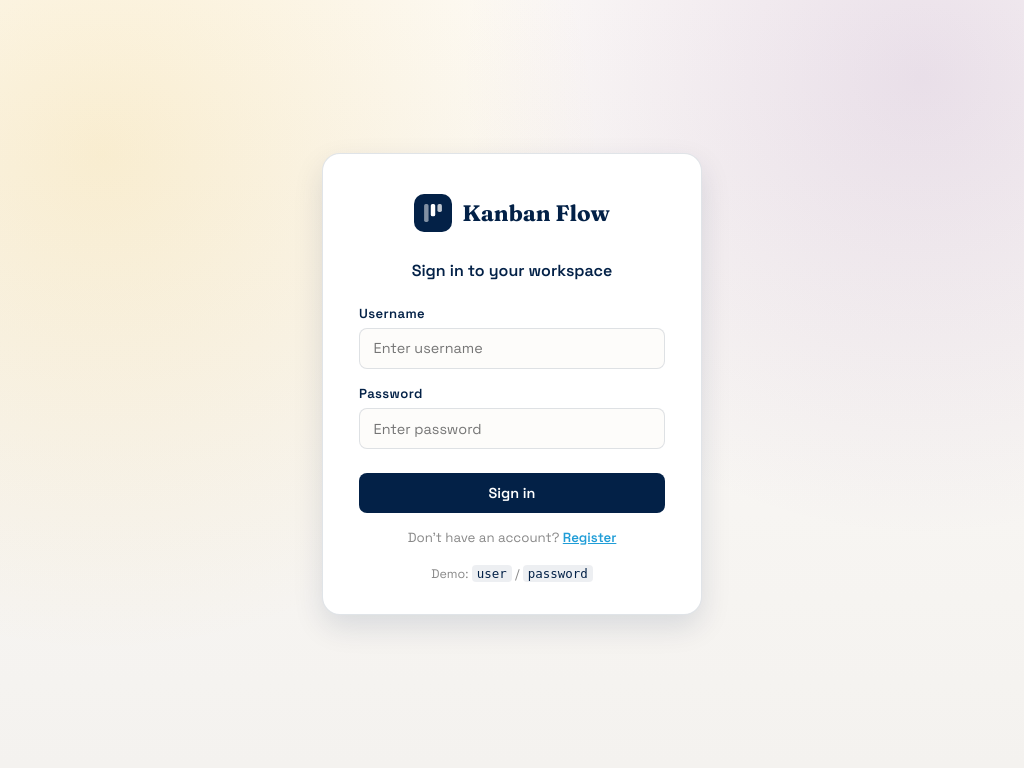
Test case: Login component — login mode › shows error on invalid credentials
This screenshot has width=1024, height=768.
Type "alice" into the field labelled "Username" at (512, 348), box [359, 328, 665, 369]
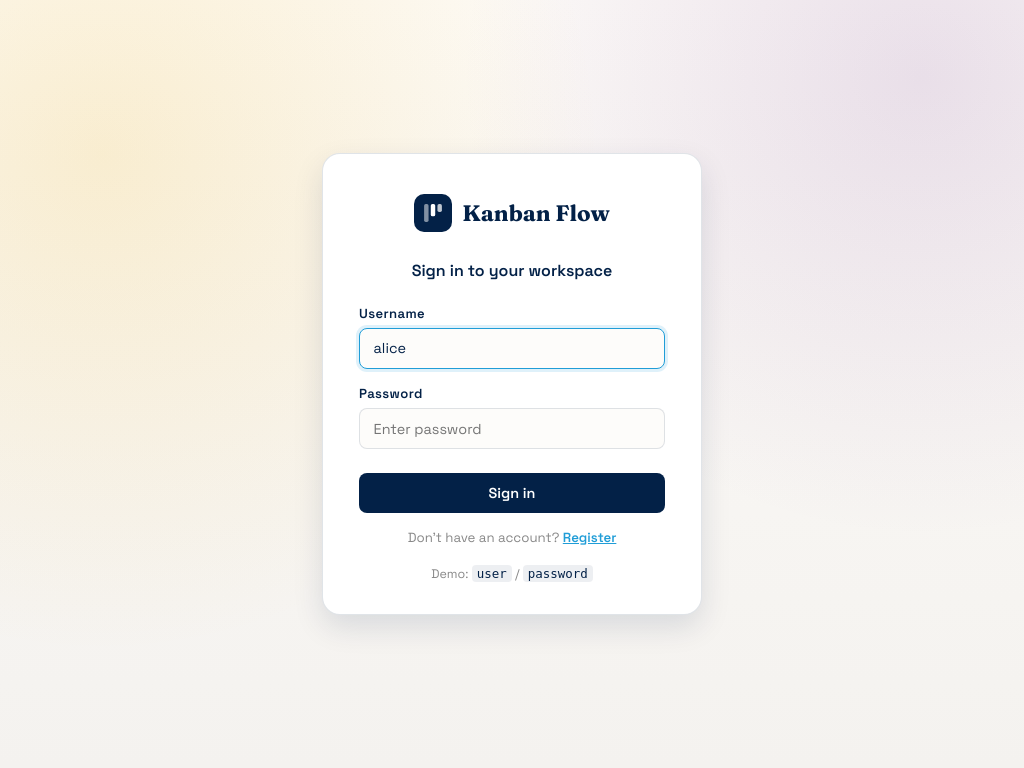
Type "wrong" into the password field labelled "Password" at (512, 429), box [359, 408, 665, 449]
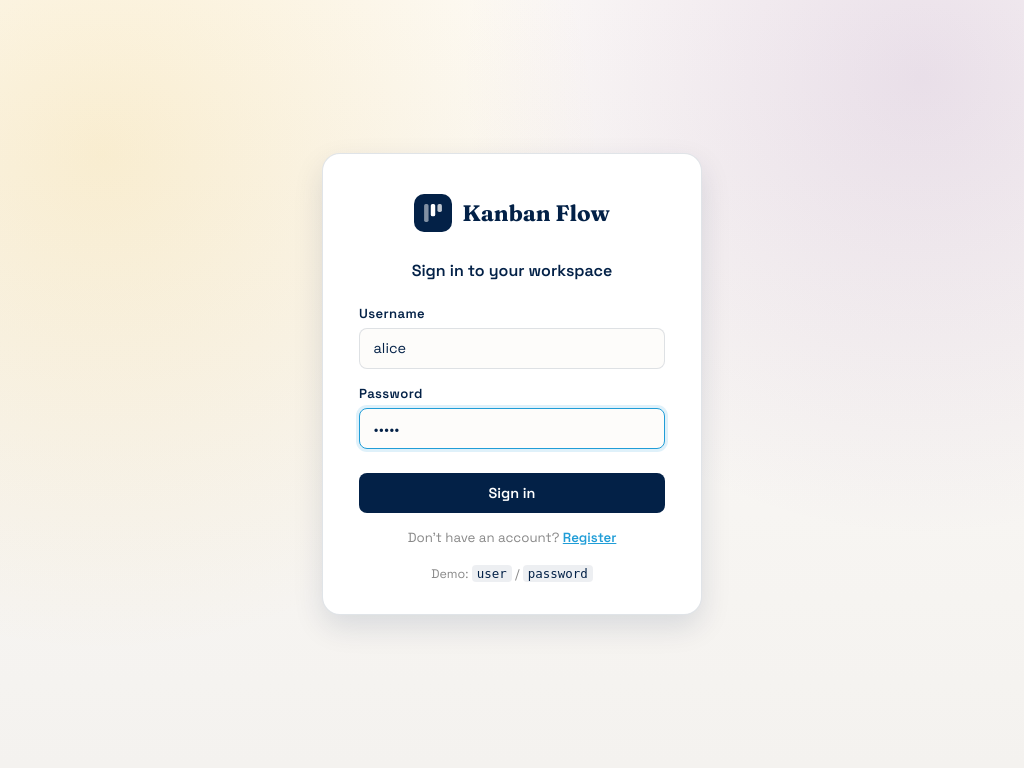
Click the button "Sign in" at (512, 493), box [359, 473, 665, 513]
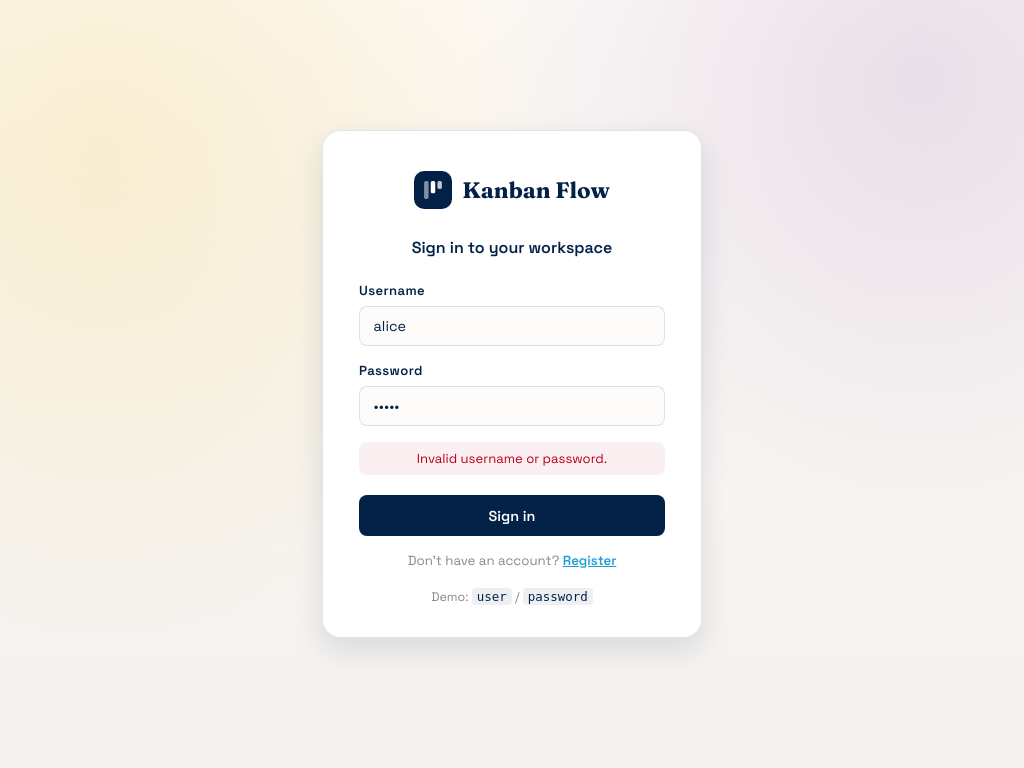
Result: the text "Invalid username or password." is shown at [359, 442, 665, 476]
